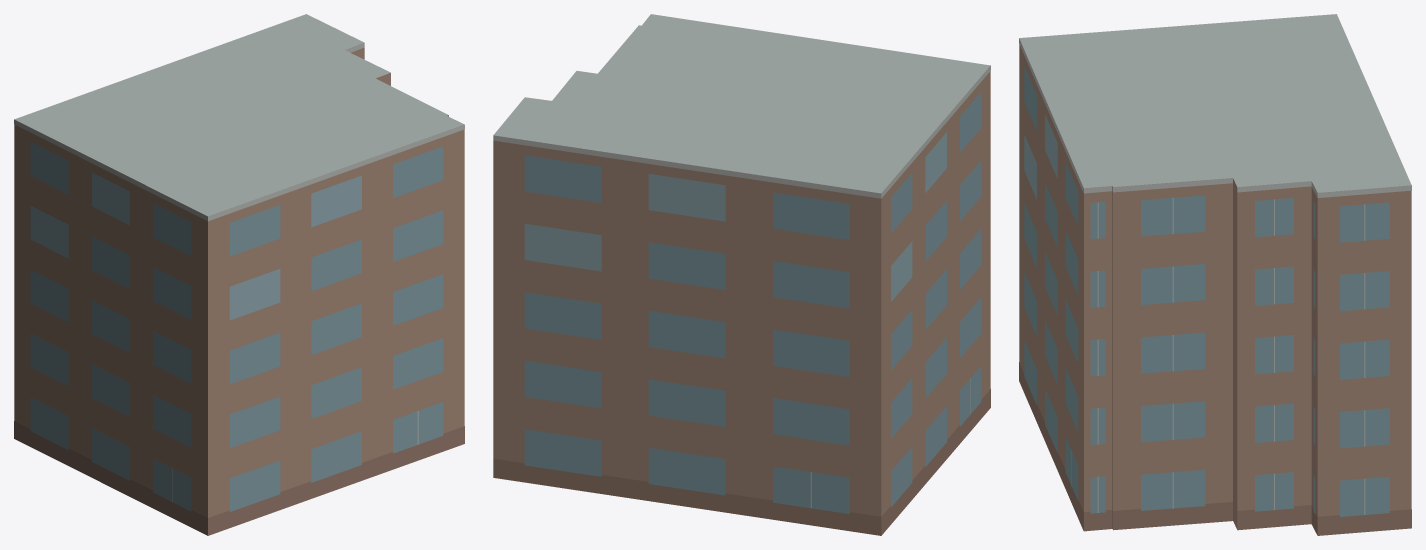
File: survey-upis-32832795.glb
3 renders of one model, left to right at view 1: azimuth 30°, elevation 25°; view 2: azimuth 150°, elevation 25°; view 3: azimuth 270°, elevation 25°, orthographic. The views are drawn at different scales.
Parts seen in each view (by area): view 1: survey-upis-32832795.tmp; view 2: survey-upis-32832795.tmp; view 3: survey-upis-32832795.tmp.
Part boxes in pixels (left/top/right/bottom): survey-upis-32832795.tmp: left=14, top=14, right=464, bottom=535; survey-upis-32832795.tmp: left=493, top=14, right=990, bottom=535; survey-upis-32832795.tmp: left=1019, top=14, right=1411, bottom=535.
Bounding box in the file's own units: 17.85 × 15.95 × 16.56.
